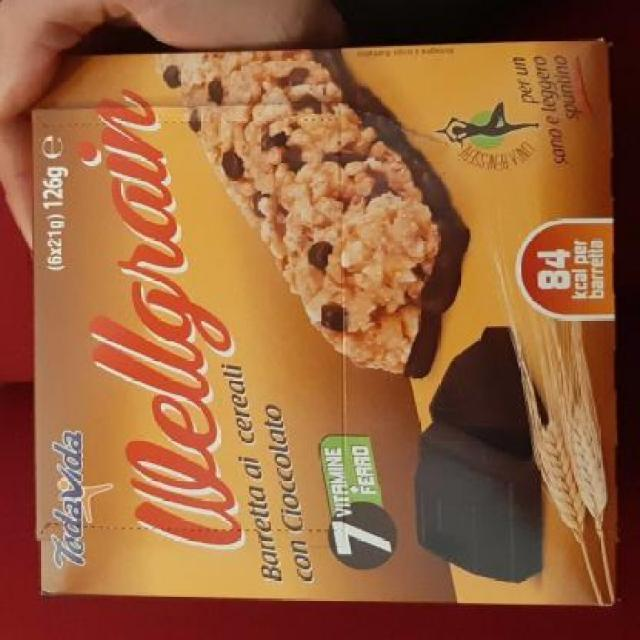Cereal bar: (22, 46, 628, 611)
